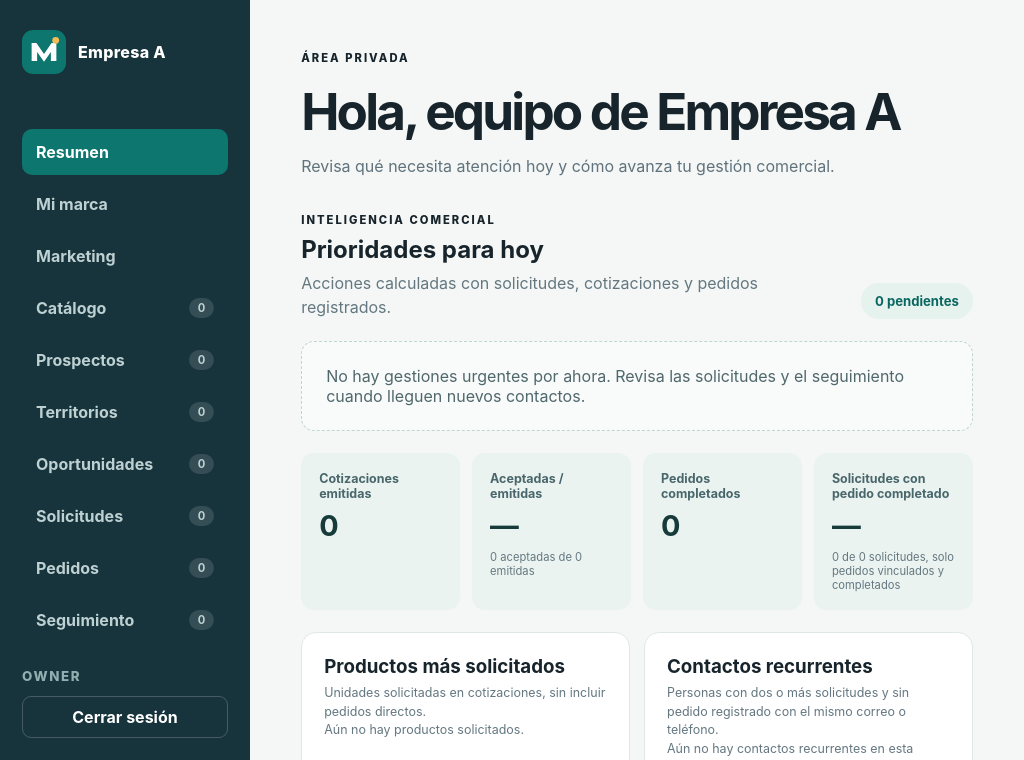
Scenario: multi-tenant application routes › lets an owner enable scheduled Instagram discovery without adding profile links
Click the button "Prospectos 0". click: point(125, 360)
box: [22, 337, 228, 383]
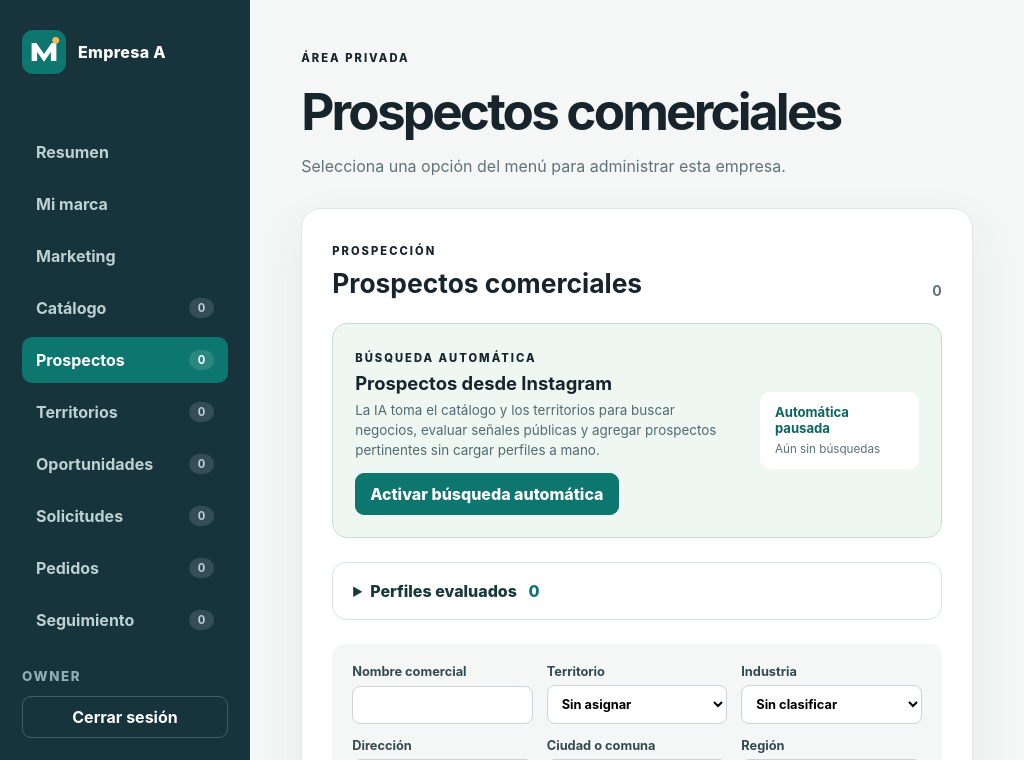
Click the button "Activar búsqueda automática". click: point(487, 494)
box: [355, 474, 618, 516]
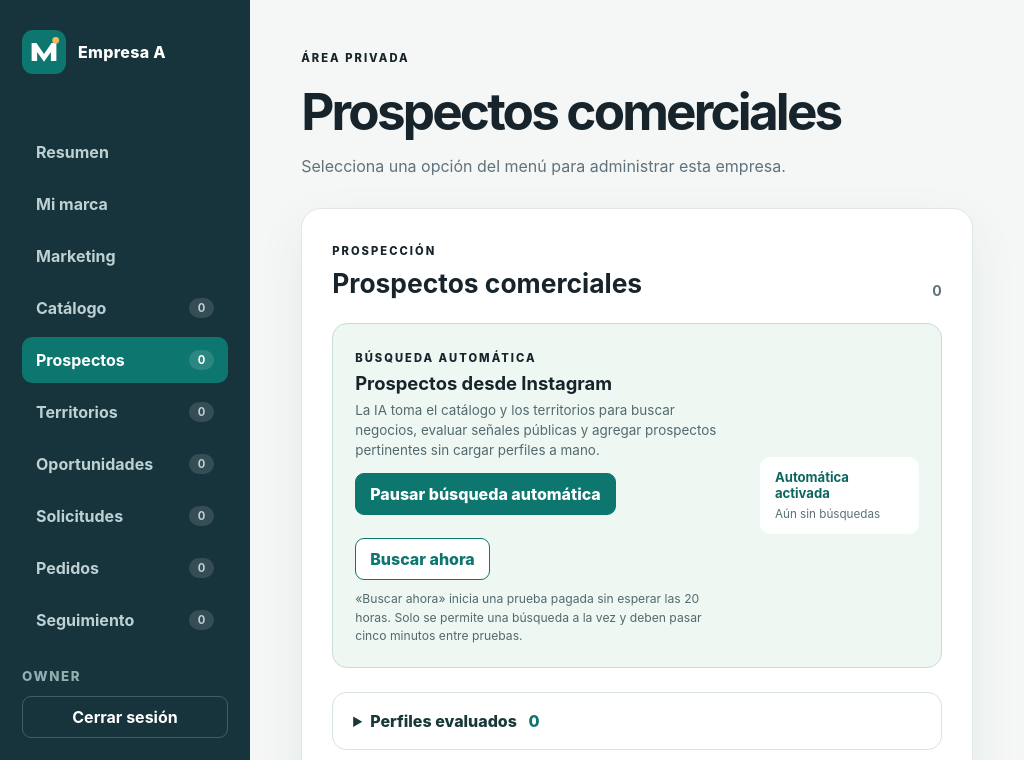
expect the button "Pausar búsqueda automática" is shown: met, box [355, 474, 616, 516]
